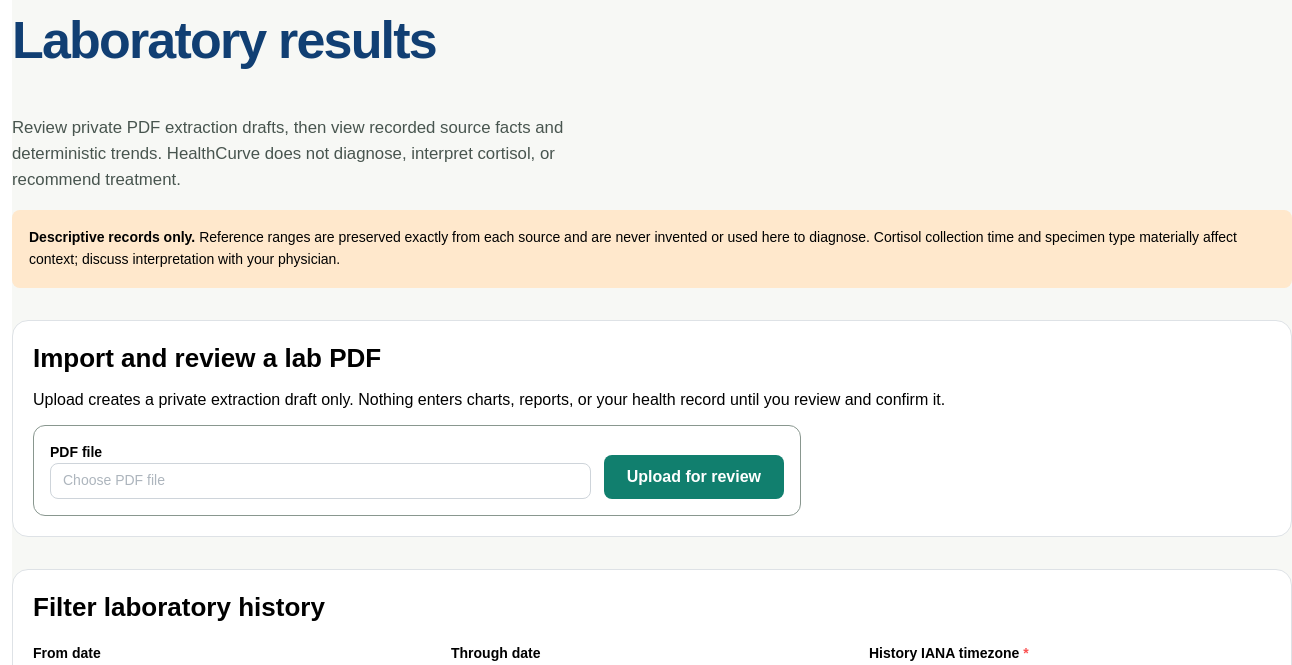
Scenario: Labs page › explains that a PDF must be selected instead of silently ignoring submit
What coordinates should you click on to do the following:
click the button "Upload for review"
I would click on:
 (694, 477)
Its box is [604,455,784,499].
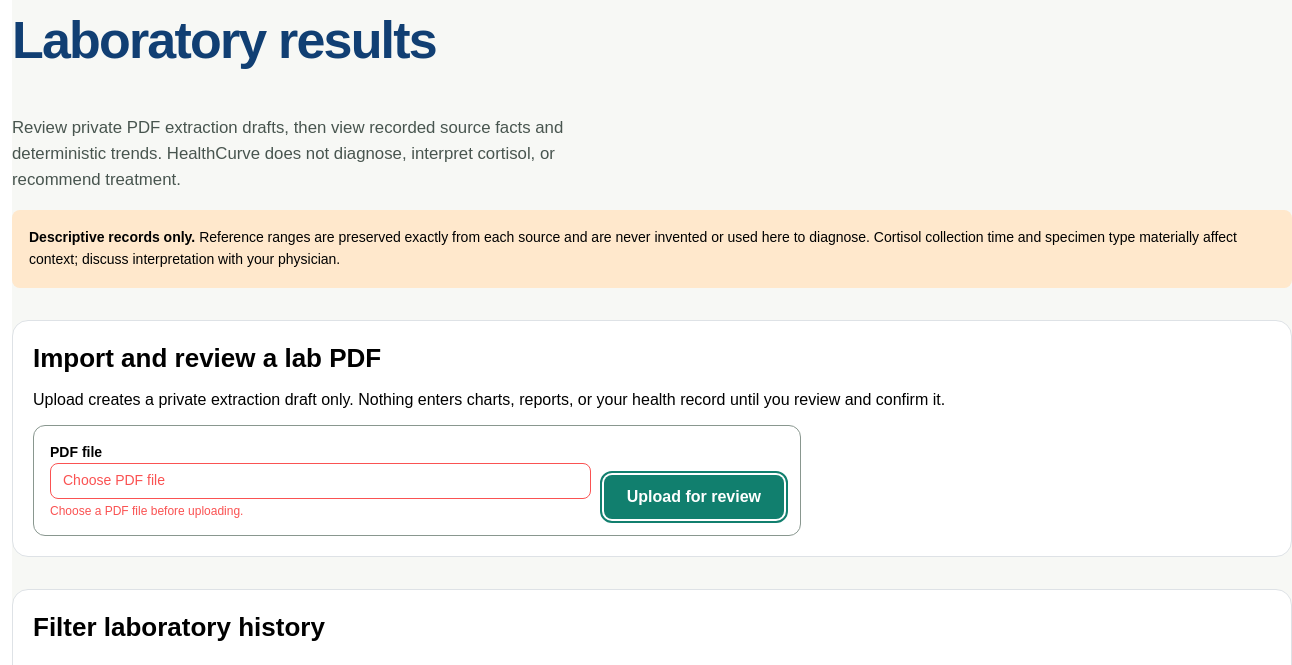
Check: the text "Choose a PDF file before uploading." is shown, box [50,504,244,518]
